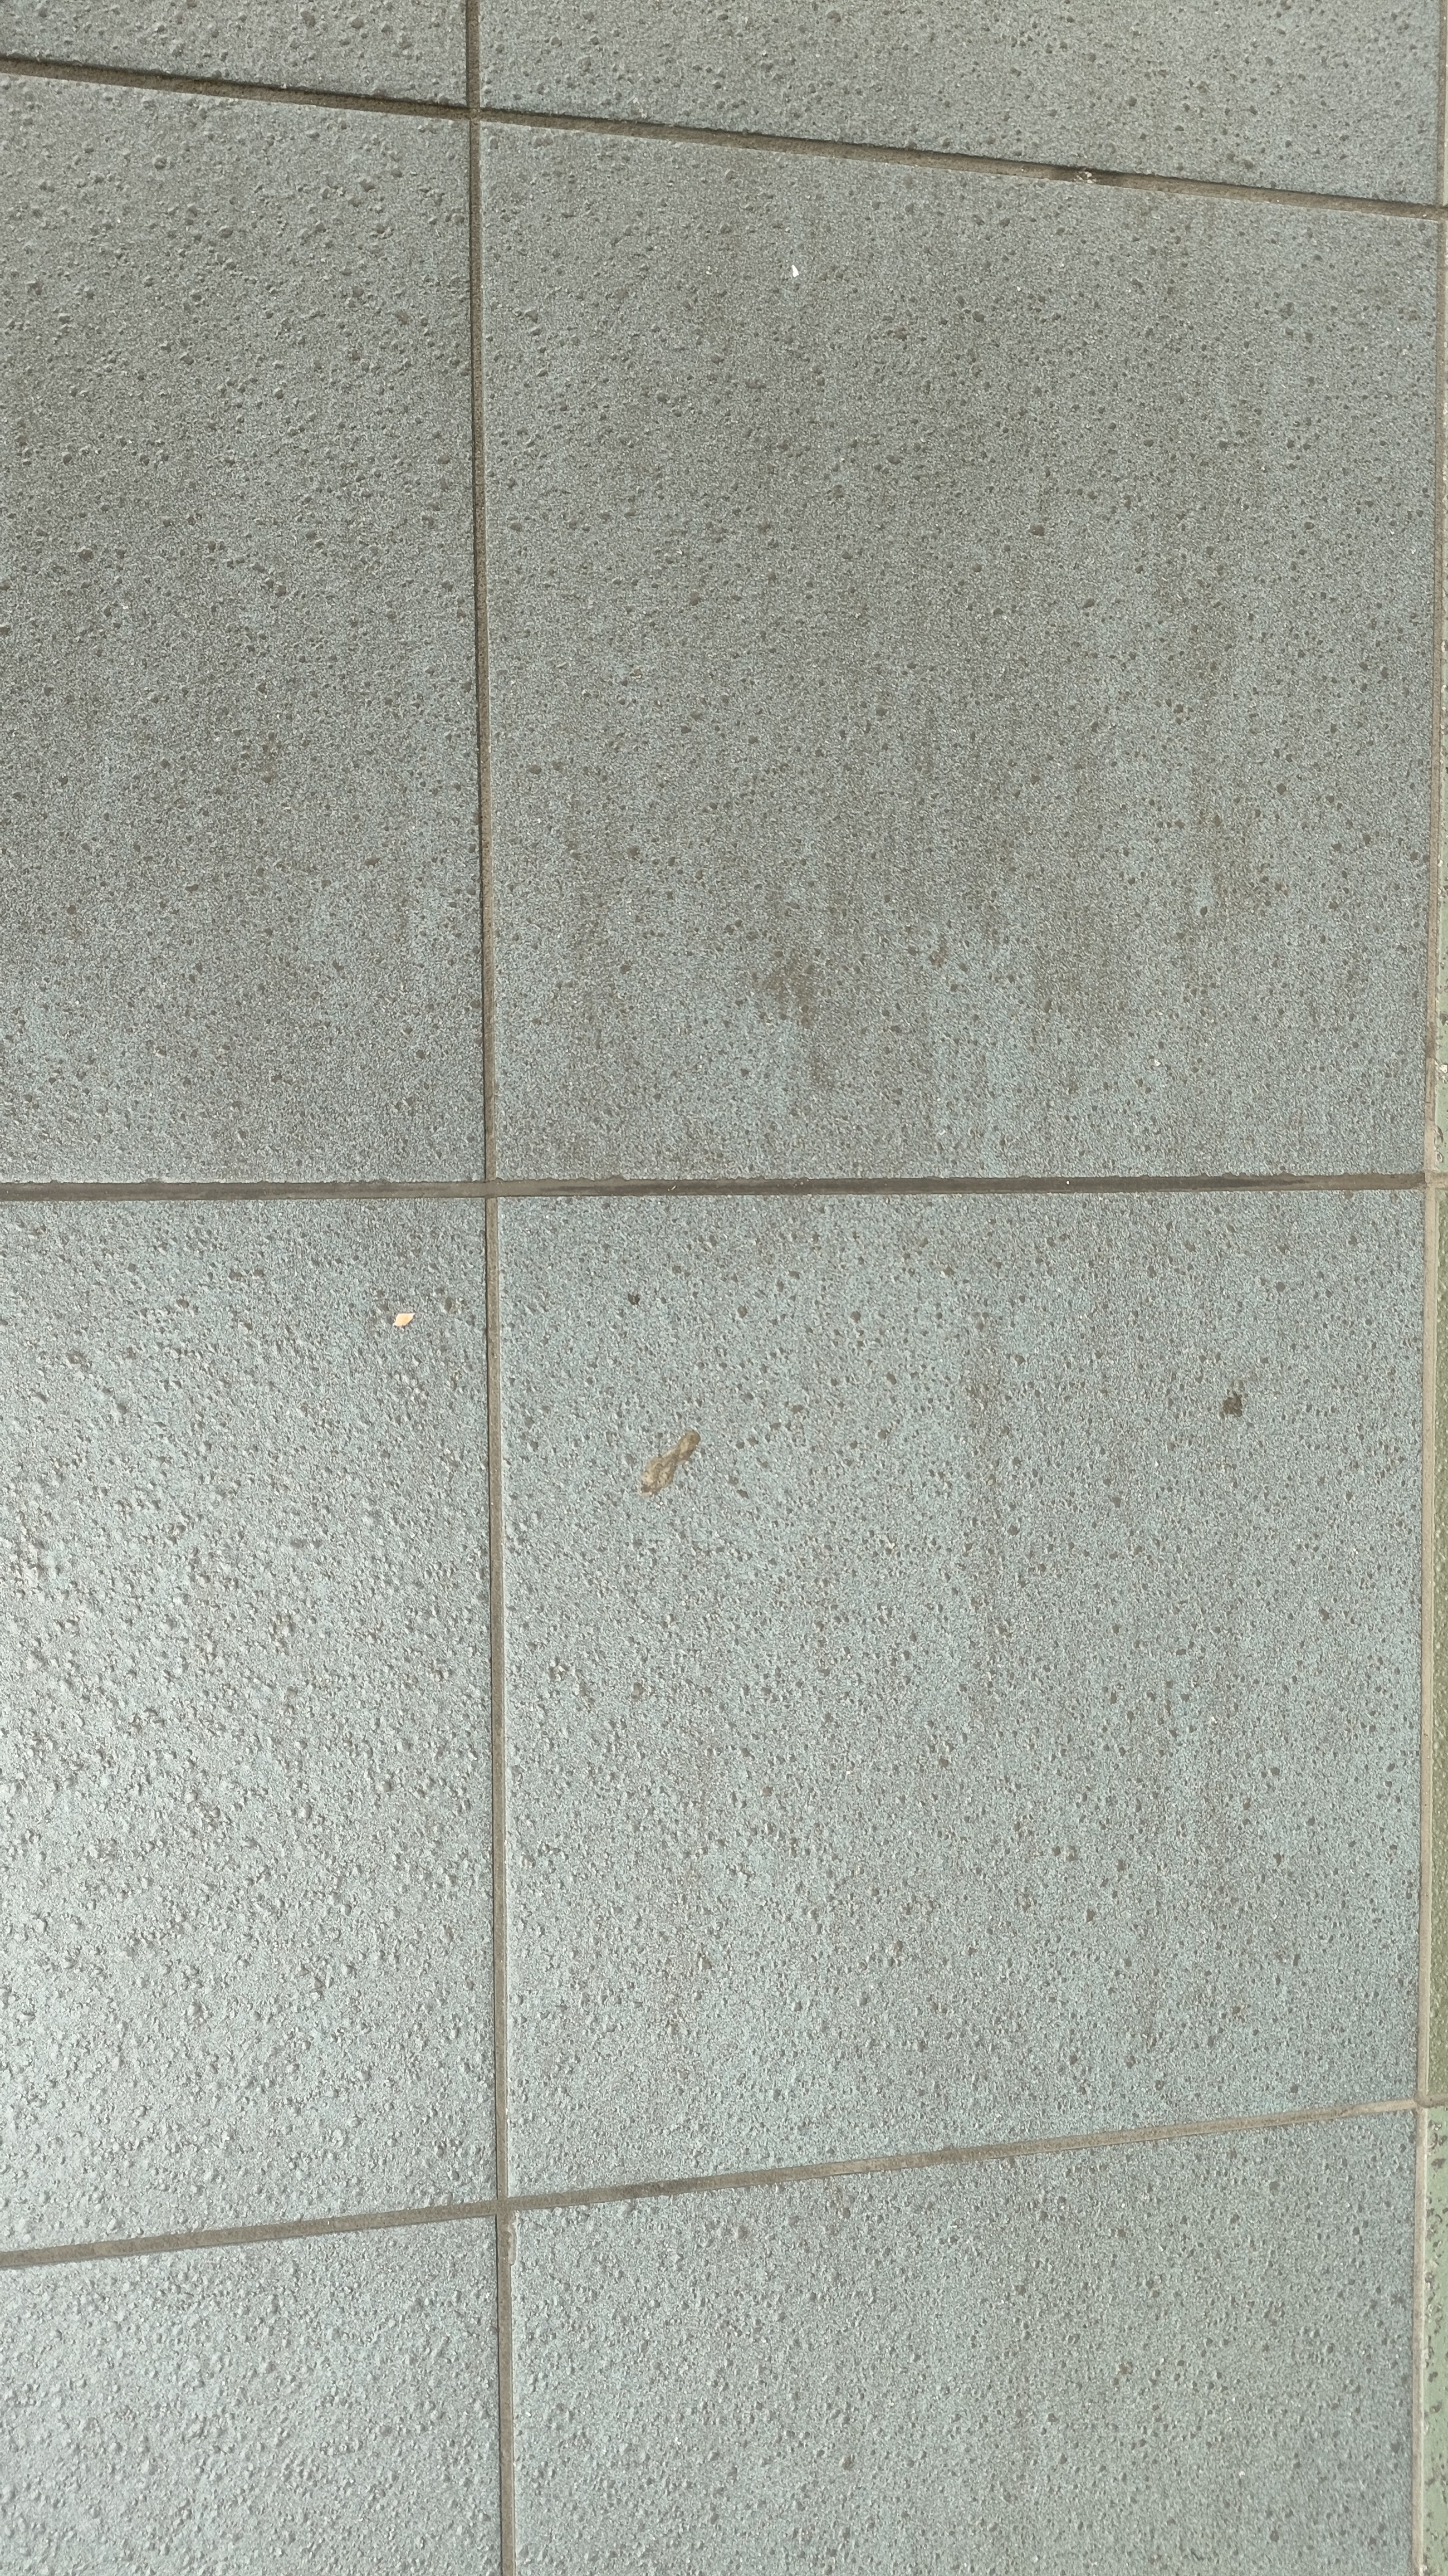Stain: (636, 1422, 709, 1502), (1202, 1380, 1268, 1430)
